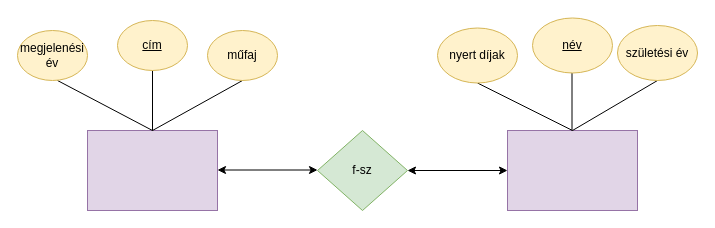
The diagram is 715 pixels wide and 228 high, and some of its shapes have lost their labels. Each missing label, with the centre of its shape:
"Film" goes at point 152,170.
"Színész" goes at point 572,170.
